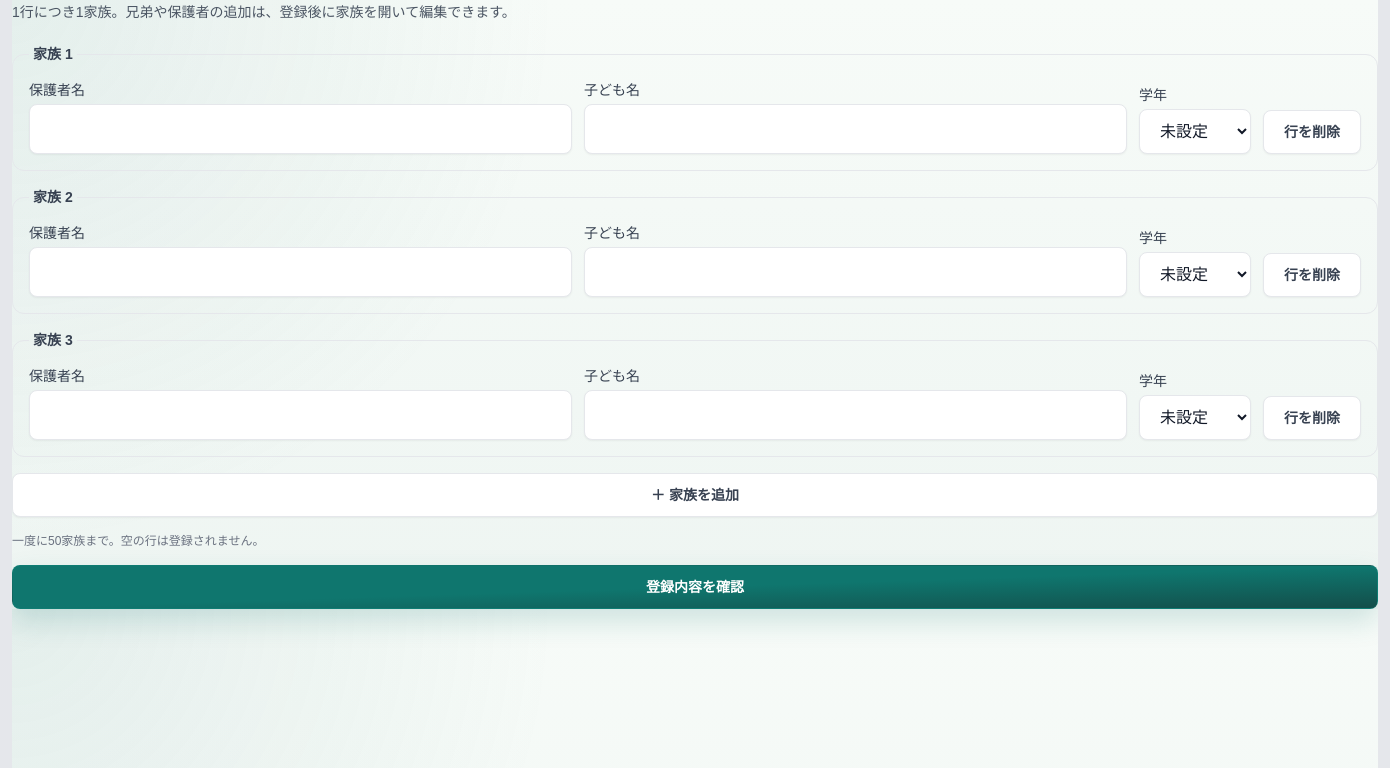
it: 部分入力（ / 田中 太郎 / ）を空行として捨てずエラーにする
Type "田中 太郎" into the 1st field labelled "子ども名" at [856, 129], box [584,104,1127,154]
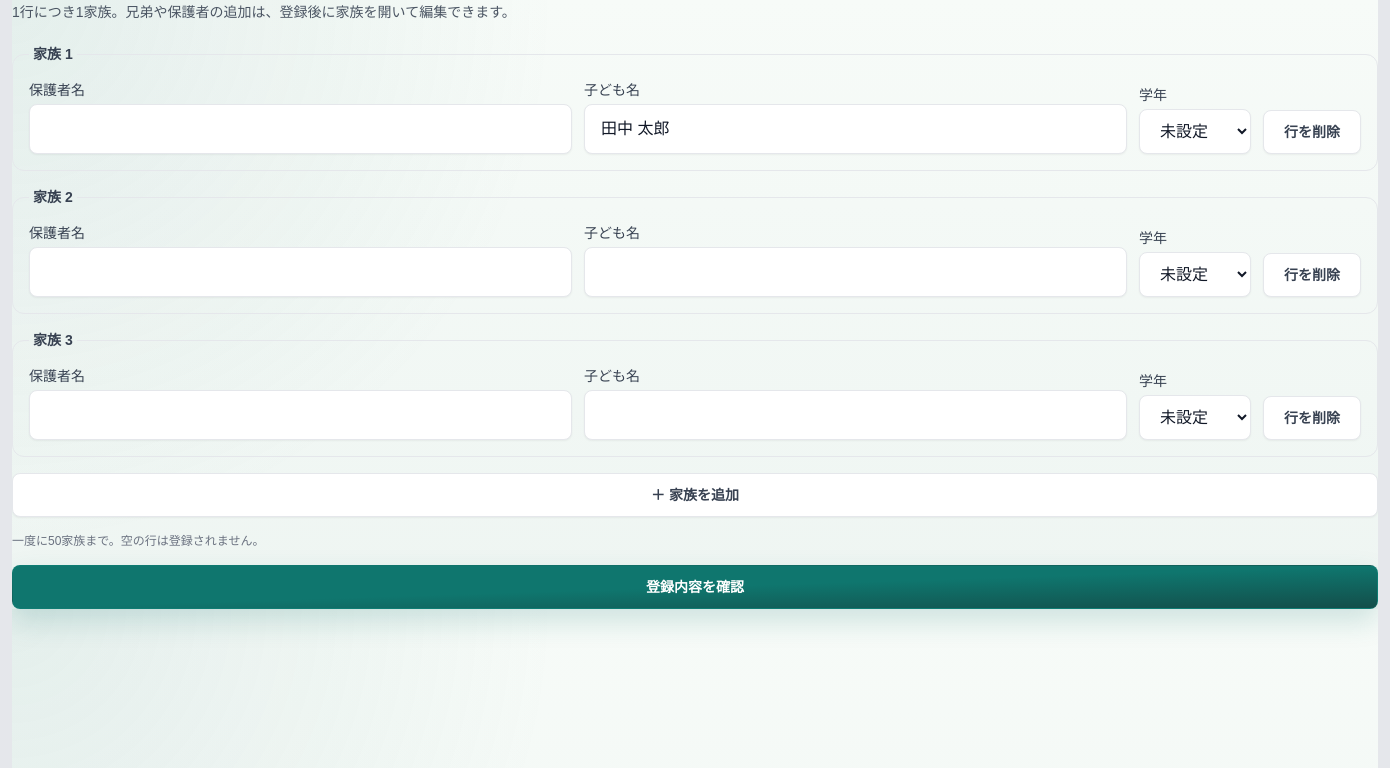
Select "未設定" in the 1st dropdown labelled "学年" at [1195, 132], box [1139,109,1251,154]
Click the button "登録内容を確認" at [695, 587], box [12,565,1378,609]
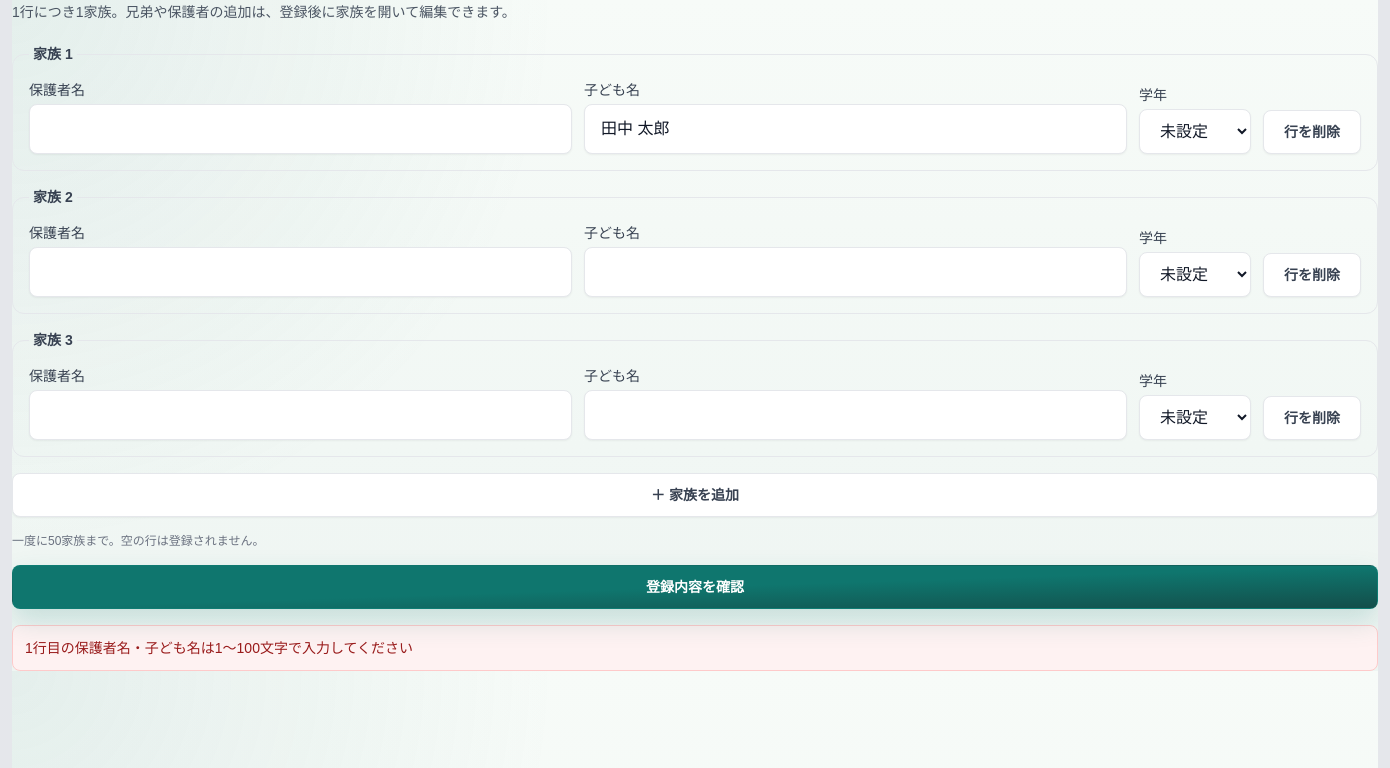
Result: the message shows "保護者名・子ども名" at [25,640,413,656]
